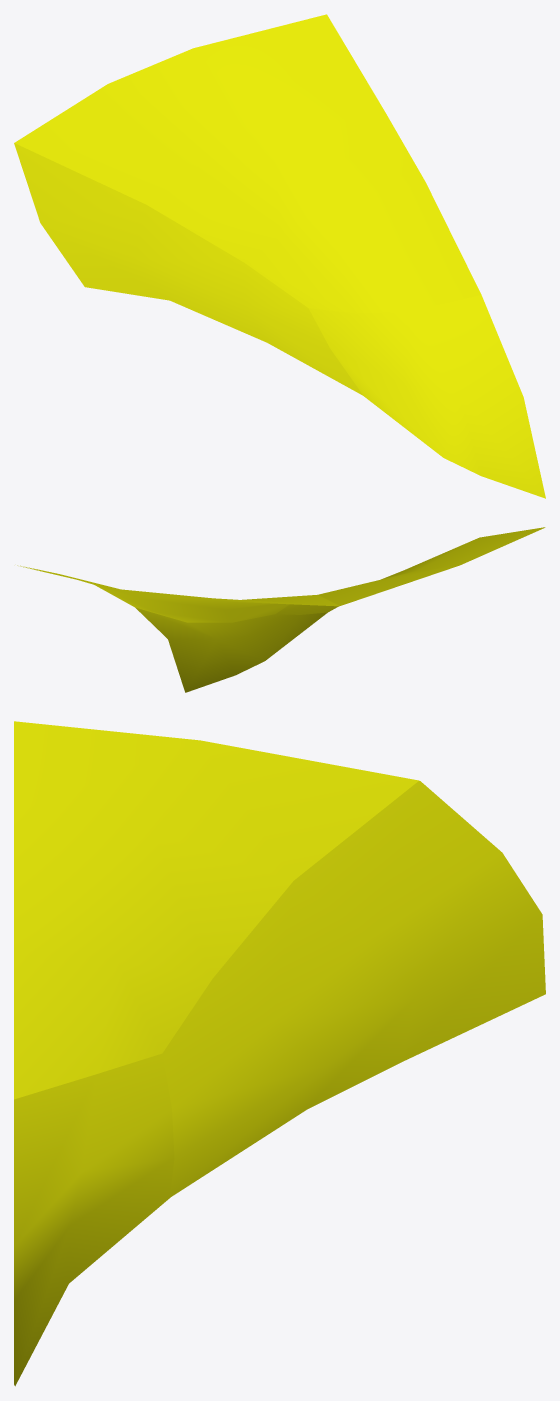
The model's file is Web_03.fbx.
The picture shows the model from 3 angles, top to bottom: view 1: azimuth 30°, elevation 25°; view 2: azimuth 150°, elevation 25°; view 3: azimuth 270°, elevation 25°; orthographic projection. The views are drawn at different scales.
Visible parts, largest first — view 1: Web_03; view 2: Web_03; view 3: Web_03.
Boxes of the visible parts, box(x1,y1,x2,y2) form: Web_03: box(14, 14, 545, 498); Web_03: box(17, 527, 545, 692); Web_03: box(14, 721, 545, 1386).
Bounding box in the file's own units: 180 × 122 × 149.
